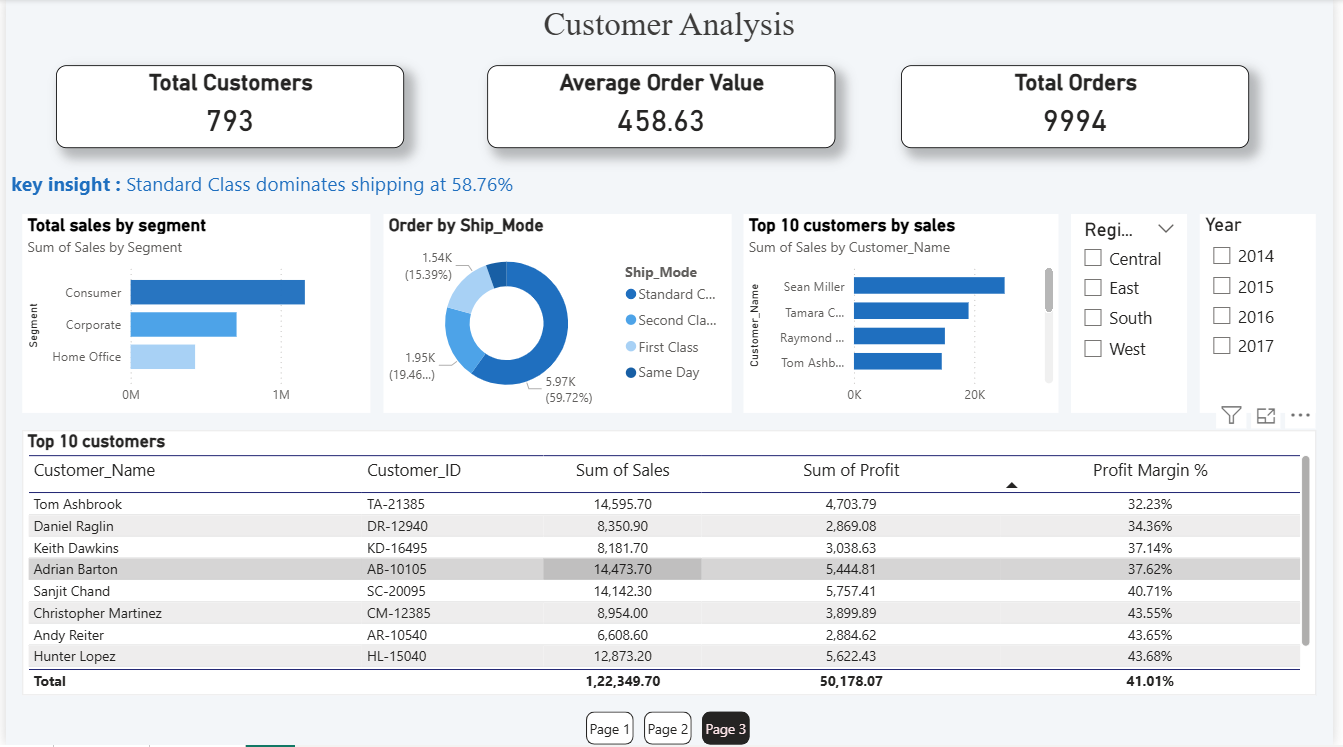

The dashboard page shown, as its layout file describes it:
{"tool":"powerbi","page":{"name":"Page 3","canvas":[1280,720],"ordinal":2},"visuals":[{"type":"slicer","title":"Year","fields":{"Values":["Untitled spreadsheet - Sample -.Order_Date.Variation.Date Hierarchy.Year"]},"box":[1152,208,112,192],"z":0},{"type":"slicer","fields":{"Values":["Untitled spreadsheet - Sample -.Region"]},"box":[1028,208,112,192],"z":1000},{"type":"card","title":"Total Orders","fields":{"Values":["CountNonNull(Untitled spreadsheet - Sample -.Order_ID)"]},"box":[864,64,336,80],"z":2000},{"type":"textbox","box":[0,0,1280,58.8],"z":3000},{"type":"card","title":"Total Customers","fields":{"Values":["Count(Untitled spreadsheet - Sample -.Customer_ID)"]},"box":[48,64,336,80],"z":4000},{"type":"card","title":"Average Order Value","fields":{"Values":["Untitled spreadsheet - Sample -.Average Order Value"]},"box":[464,64,336,80],"z":5000},{"type":"tableEx","title":"Top 10 customers","fields":{"Values":["Untitled spreadsheet - Sample -.Customer_Name","Untitled spreadsheet - Sample -.Customer_ID","Sum(Untitled spreadsheet - Sample -.Sales)","Sum(Untitled spreadsheet - Sample -.Profit)","Untitled spreadsheet - Sample -.Profit Margin %"]},"box":[16,416,1248,256],"z":6000},{"type":"barChart","title":"Total sales by segment","fields":{"Y":["Sum(Untitled spreadsheet - Sample -.Sales)"],"Category":["Untitled spreadsheet - Sample -.Segment"]},"box":[16,208,336,192],"z":7000},{"type":"donutChart","title":" Order by Ship_Mode","fields":{"Category":["Untitled spreadsheet - Sample -.Ship_Mode"],"Y":["CountNonNull(Untitled spreadsheet - Sample -.Order_ID)"]},"box":[364,208,336,192],"z":8000},{"type":"clusteredBarChart","title":"Top 10 customers by sales ","fields":{"Category":["Untitled spreadsheet - Sample -.Customer_Name"],"Y":["Sum(Untitled spreadsheet - Sample -.Sales)"]},"box":[712,208,304,192],"z":9000},{"type":"pageNavigator","box":[560,688,160,32],"z":10000},{"type":"textbox","box":[0,160,512,48],"z":10001}]}

Visuals, with their boxes in screenshot pixels (x1, y1, x2, y2), scaled from the page's 1280x720 canvas onto the 1343x747 screenshot:
"Year" slicer: [left=1209, top=216, right=1326, bottom=415]
slicer - Untitled spreadsheet - Sample -.Region: [left=1079, top=216, right=1196, bottom=415]
"Total Orders" card: [left=907, top=66, right=1259, bottom=149]
textbox: [left=0, top=0, right=1342, bottom=61]
"Total Customers" card: [left=50, top=66, right=403, bottom=149]
"Average Order Value" card: [left=487, top=66, right=839, bottom=149]
"Top 10 customers" tableEx: [left=17, top=432, right=1326, bottom=697]
"Total sales by segment" barChart: [left=17, top=216, right=369, bottom=415]
" Order by Ship_Mode" donutChart: [left=382, top=216, right=734, bottom=415]
"Top 10 customers by sales " clusteredBarChart: [left=747, top=216, right=1066, bottom=415]
pageNavigator: [left=588, top=714, right=755, bottom=746]
textbox: [left=0, top=166, right=537, bottom=216]
